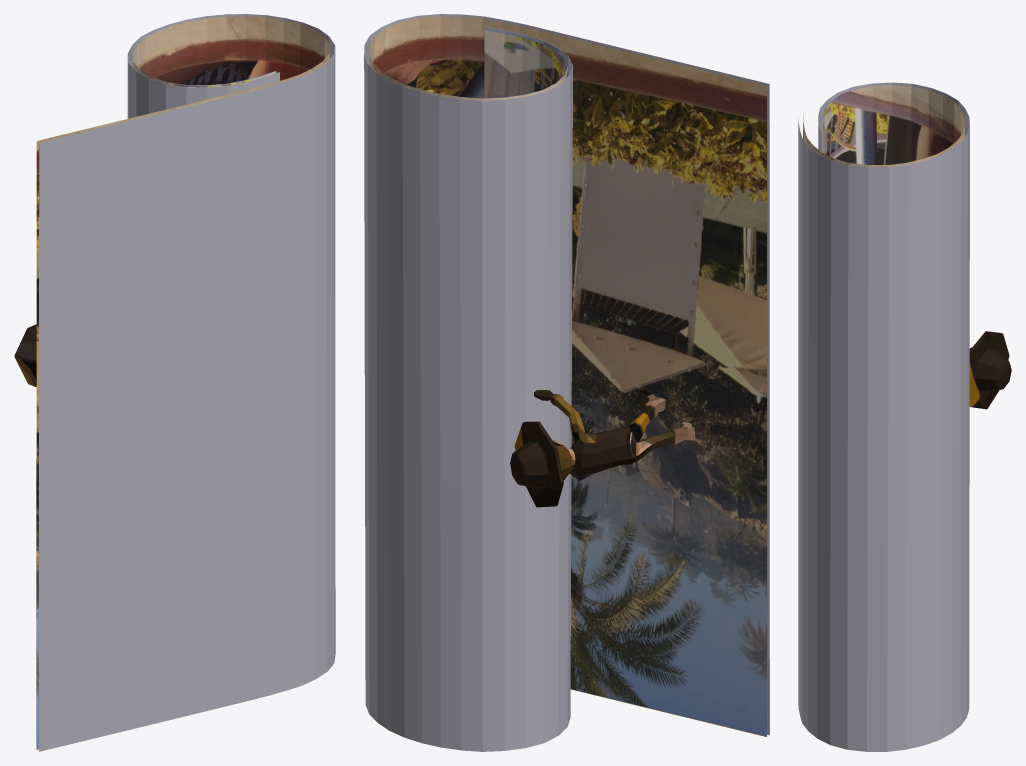
The model's file is start_file2_000035.obj.
3 renders of one model, left to right at view 1: azimuth 30°, elevation 25°; view 2: azimuth 150°, elevation 25°; view 3: azimuth 270°, elevation 25°, orthographic. The views are drawn at different scales.
Parts seen in each view (by area): view 1: Cube_Cube.001, Character_Cube; view 2: Cube_Cube.001, Character_Cube; view 3: Cube_Cube.001, Character_Cube.
Boxes of the visible parts, bbox=[...] form: Cube_Cube.001: bbox=[36, 14, 335, 751]; Character_Cube: bbox=[14, 324, 36, 387]; Cube_Cube.001: bbox=[364, 14, 769, 751]; Character_Cube: bbox=[510, 389, 695, 507]; Cube_Cube.001: bbox=[798, 82, 969, 751]; Character_Cube: bbox=[969, 331, 1011, 409].
Size of the model in its own units: 0.8564 by 1.52 by 0.5044.
2 materials, 2 textured.
